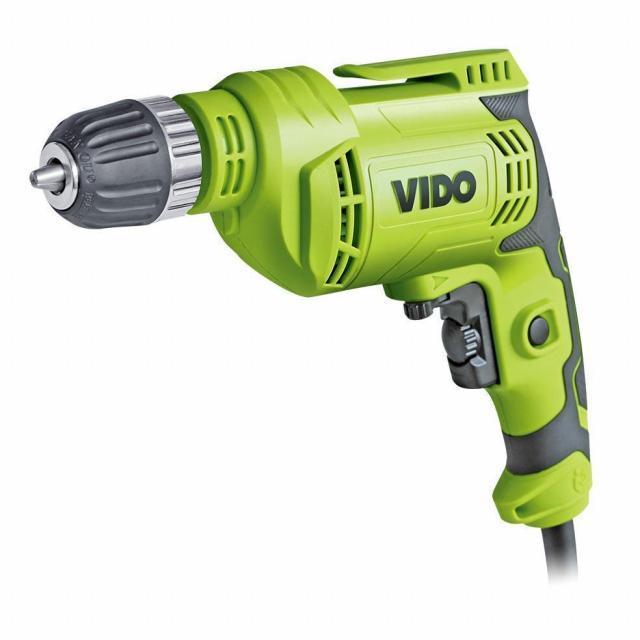drill: (29, 49, 592, 580)
